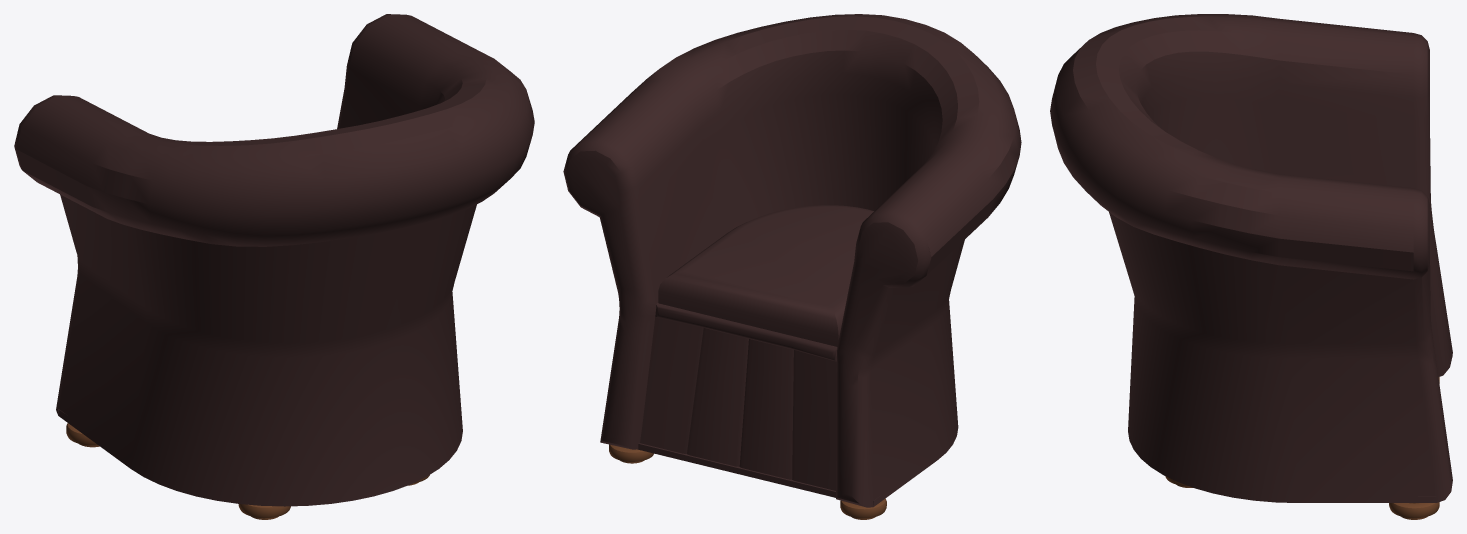
The model's file is Chair_Single_010.glb.
The picture shows the model from 3 angles, left to right: view 1: azimuth 30°, elevation 25°; view 2: azimuth 150°, elevation 25°; view 3: azimuth 270°, elevation 25°; orthographic projection. The views are drawn at different scales.
Visible parts, largest first — view 1: Mesh_Chair_Single_010; view 2: Mesh_Chair_Single_010; view 3: Mesh_Chair_Single_010.
Part boxes in pixels (x1,y1,x2,y2): Mesh_Chair_Single_010: (14, 14, 534, 519); Mesh_Chair_Single_010: (563, 14, 1021, 519); Mesh_Chair_Single_010: (1050, 14, 1452, 519).
Bounding box in the file's own units: 0.75 × 0.7 × 0.6585.
Materials: 1 (1 with a texture image).
